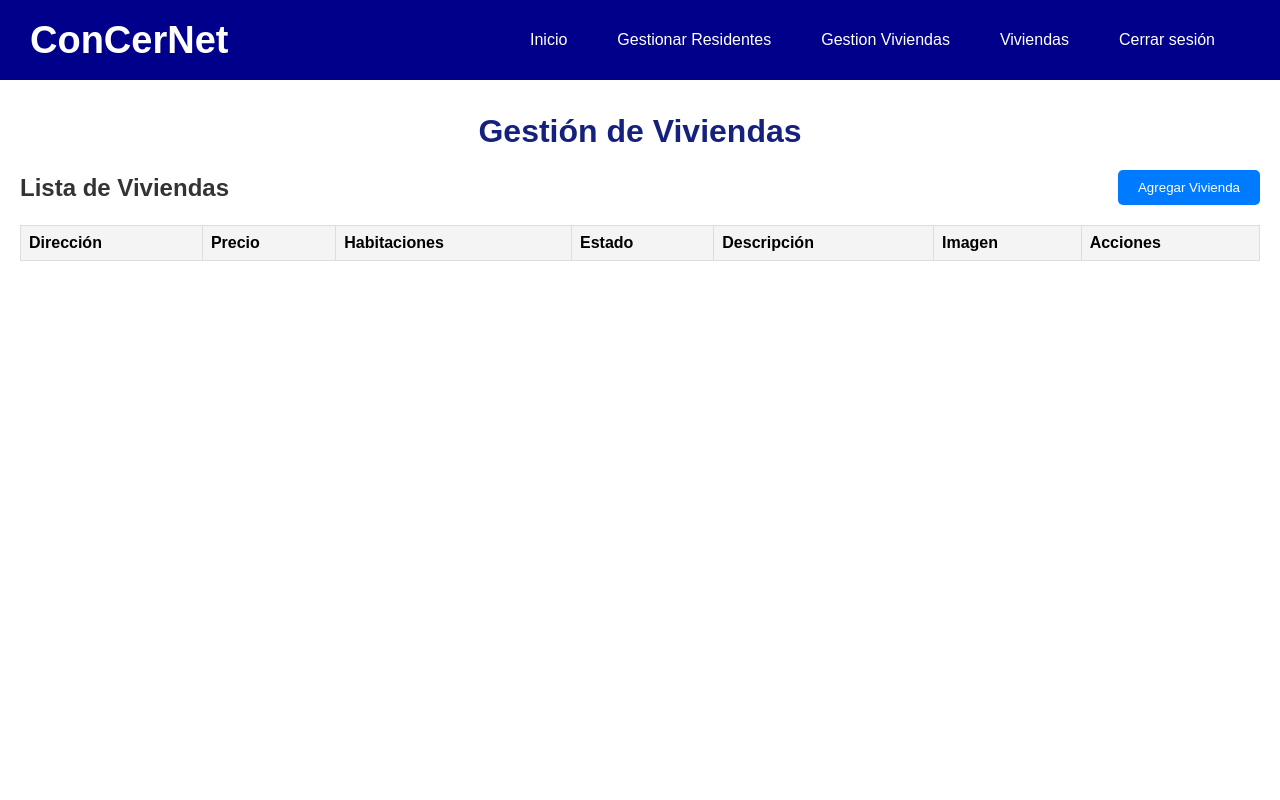
Pruebas unitarias para Gestión de Viviendas › Debe mostrar un error si el número de habitaciones es mayor a 5
The image size is (1280, 800).
Click the button "Agregar Vivienda" at (1189, 188), box 1118,170 -> 1260,205
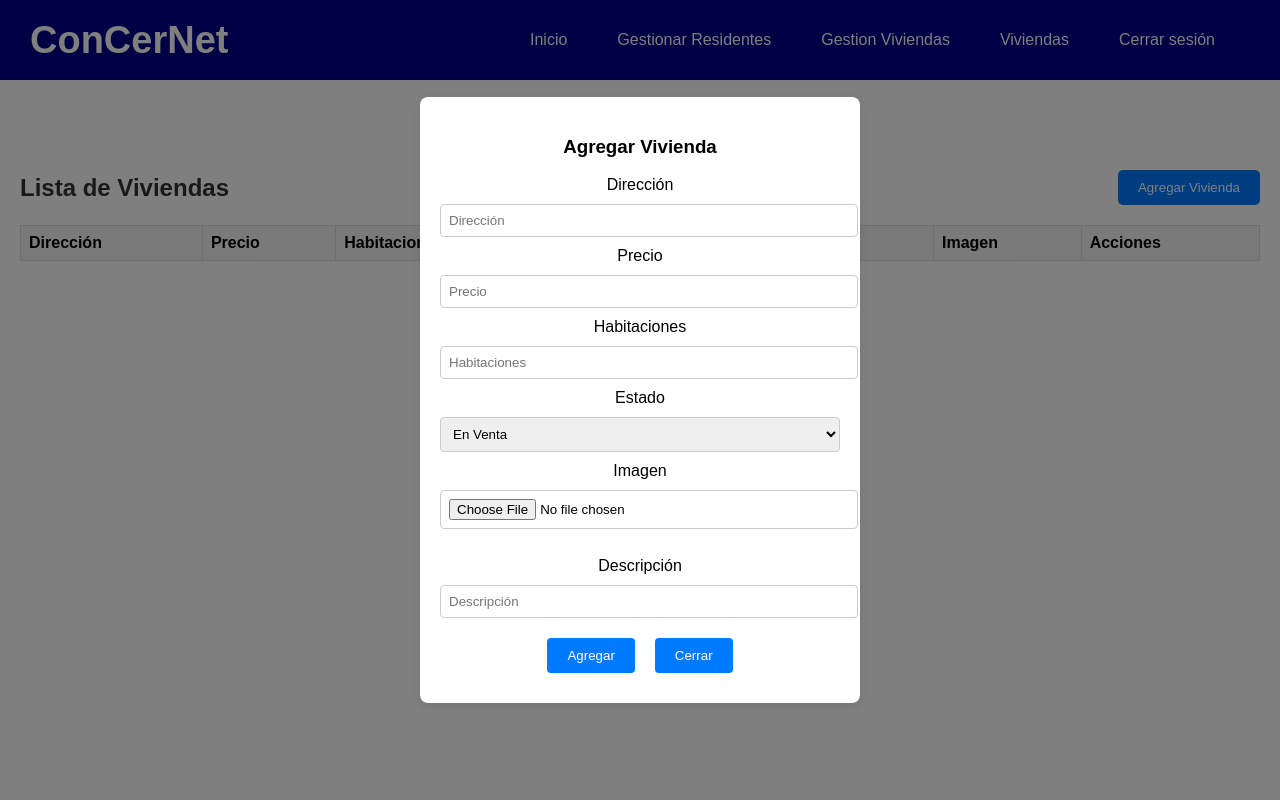
Type "6" into the number field with placeholder "Habitaciones" at (649, 363), box 440,346 -> 858,379
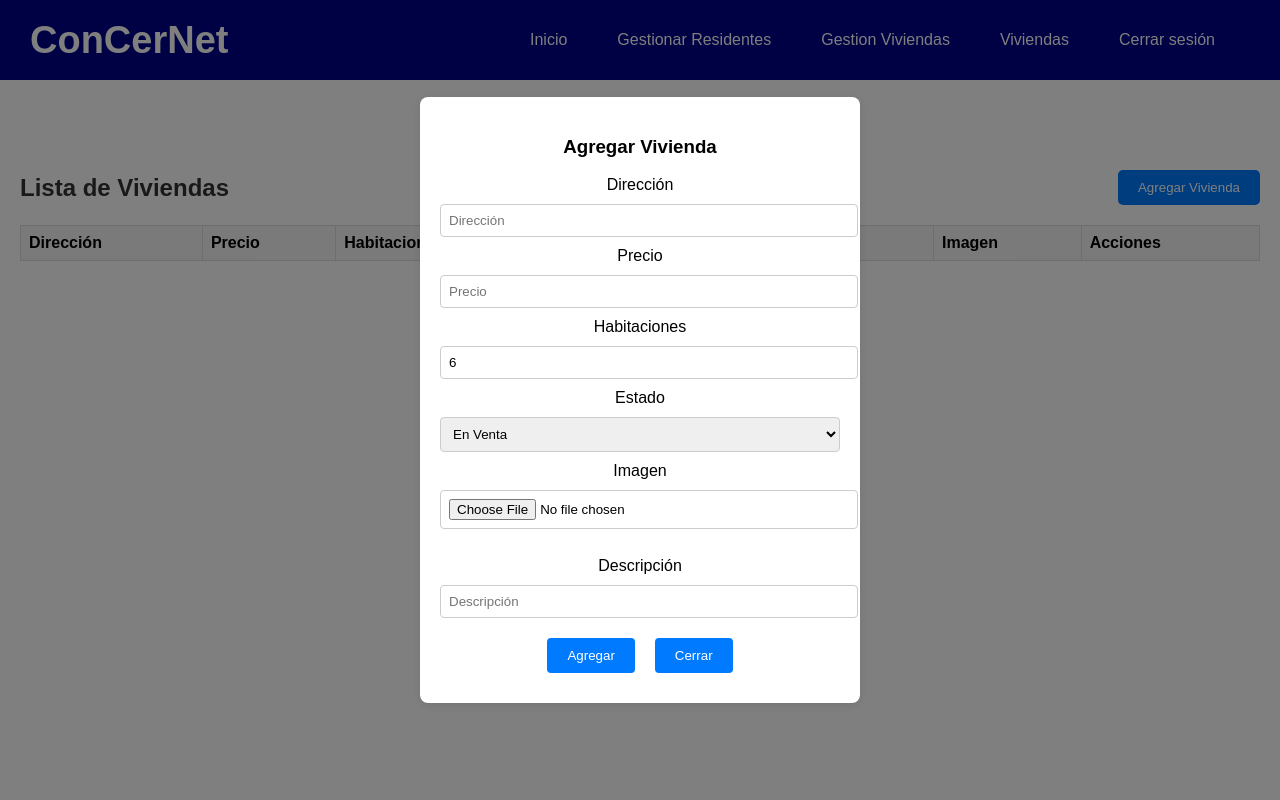
Leave the number field with placeholder "Habitaciones", box 440,346 -> 858,379
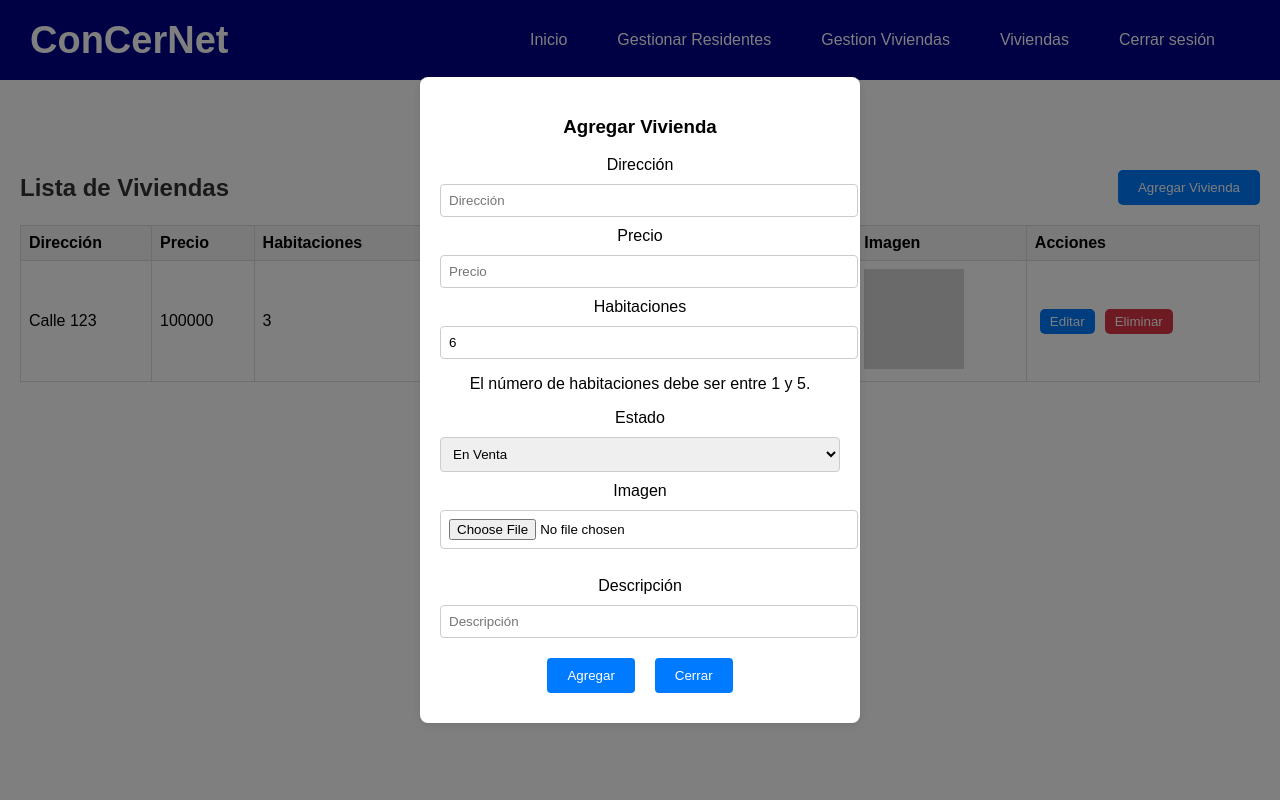
Check: the text "El número de habitaciones debe ser entre 1 y 5." is shown, box 440,375 -> 840,393
